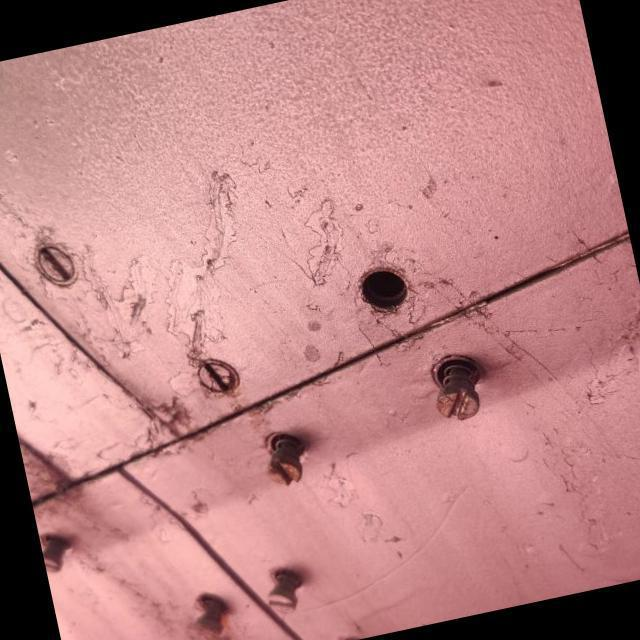Missing Fastener: (352, 251, 420, 317)
